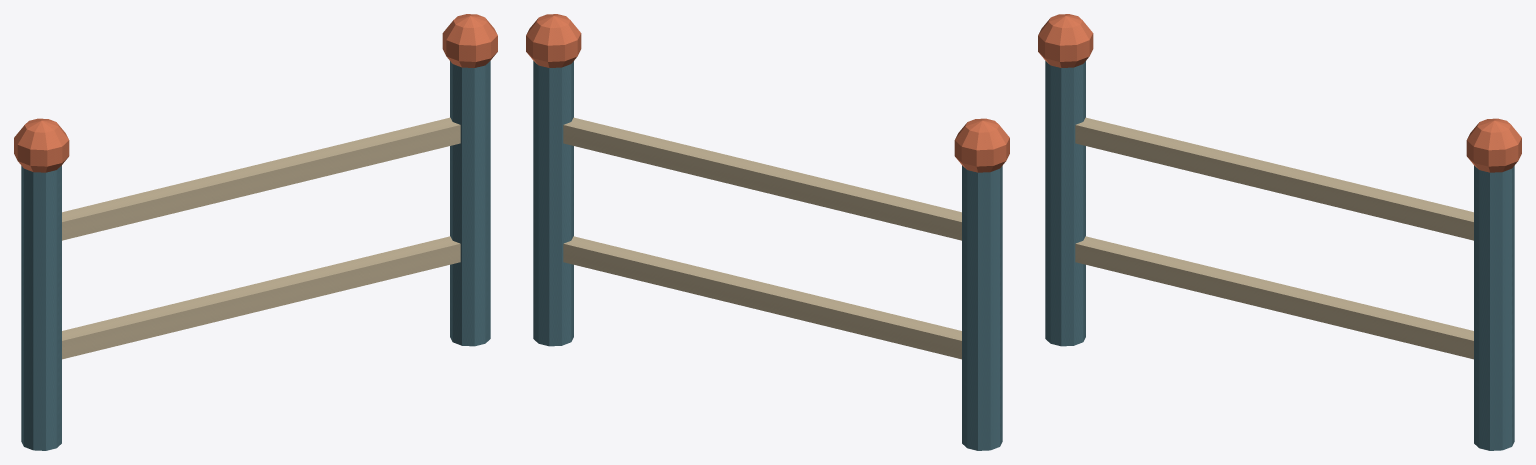
Rendered from atlas100-sailpunk-util04.glb.
The picture shows the model from 3 angles, left to right: view 1: azimuth 30°, elevation 25°; view 2: azimuth 150°, elevation 25°; view 3: azimuth 330°, elevation 25°; orthographic projection.
Parts seen in each view (by area): view 1: atlas100-sailpunk-util04:part-004, atlas100-sailpunk-util04:part-005, atlas100-sailpunk-util04:part-000, atlas100-sailpunk-util04:part-002, atlas100-sailpunk-util04:part-001, atlas100-sailpunk-util04:part-003; view 2: atlas100-sailpunk-util04:part-004, atlas100-sailpunk-util04:part-005, atlas100-sailpunk-util04:part-000, atlas100-sailpunk-util04:part-002, atlas100-sailpunk-util04:part-001, atlas100-sailpunk-util04:part-003; view 3: atlas100-sailpunk-util04:part-004, atlas100-sailpunk-util04:part-005, atlas100-sailpunk-util04:part-002, atlas100-sailpunk-util04:part-000, atlas100-sailpunk-util04:part-003, atlas100-sailpunk-util04:part-001.
Boxes of the visible parts, left/top/right/bottom form: atlas100-sailpunk-util04:part-004: left=62, top=236, right=460, bottom=359; atlas100-sailpunk-util04:part-005: left=62, top=117, right=460, bottom=240; atlas100-sailpunk-util04:part-000: left=21, top=165, right=61, bottom=450; atlas100-sailpunk-util04:part-002: left=450, top=61, right=490, bottom=346; atlas100-sailpunk-util04:part-001: left=14, top=118, right=69, bottom=172; atlas100-sailpunk-util04:part-003: left=442, top=14, right=497, bottom=67; atlas100-sailpunk-util04:part-004: left=563, top=236, right=961, bottom=359; atlas100-sailpunk-util04:part-005: left=563, top=117, right=961, bottom=240; atlas100-sailpunk-util04:part-000: left=962, top=165, right=1002, bottom=450; atlas100-sailpunk-util04:part-002: left=533, top=61, right=573, bottom=346; atlas100-sailpunk-util04:part-001: left=954, top=118, right=1009, bottom=172; atlas100-sailpunk-util04:part-003: left=526, top=14, right=581, bottom=67; atlas100-sailpunk-util04:part-004: left=1075, top=236, right=1473, bottom=359; atlas100-sailpunk-util04:part-005: left=1075, top=117, right=1473, bottom=240; atlas100-sailpunk-util04:part-002: left=1474, top=165, right=1514, bottom=450; atlas100-sailpunk-util04:part-000: left=1045, top=61, right=1085, bottom=346; atlas100-sailpunk-util04:part-003: left=1466, top=118, right=1521, bottom=172; atlas100-sailpunk-util04:part-001: left=1038, top=14, right=1093, bottom=67.
Size of the model in its own units: 2.11 by 1.36 by 0.2017.
Materials: 3 (3 with a texture image).
